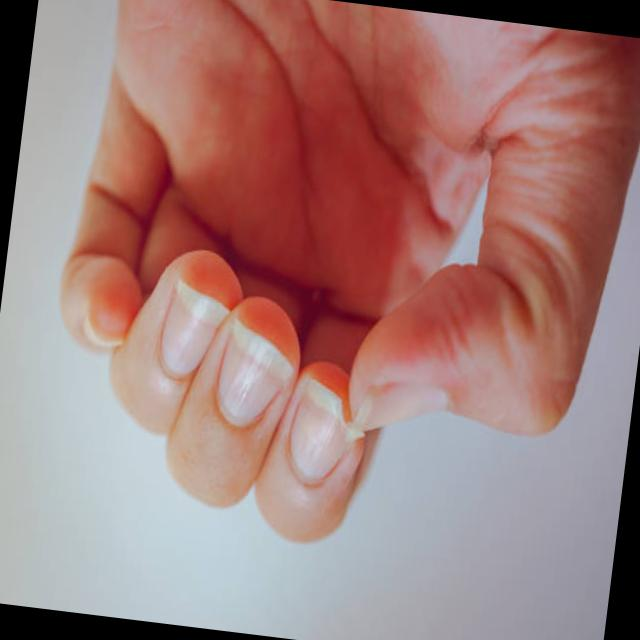Nail: (216, 317, 292, 424), (159, 278, 228, 376), (289, 377, 343, 479), (353, 382, 447, 427)
